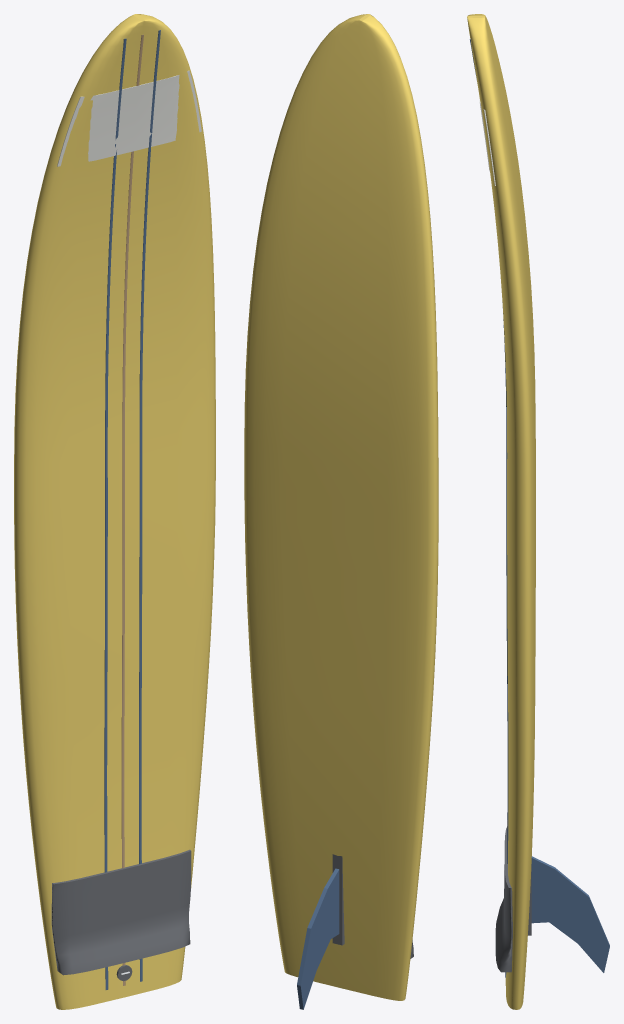
File: beach-surf-and-paddle-kit-longboard-surfboard-d5d87547__39414.glb
3 views of the same model, side by side, from view 1: azimuth 30°, elevation 25°; view 2: azimuth 150°, elevation 25°; view 3: azimuth 270°, elevation 25° (orthographic). The views are drawn at different scales.
Visible parts, largest first — view 1: longboard-surfboard-sun, longboard-surfboard-charcoal, longboard-surfboard-foam, longboard-surfboard-navy, longboard-surfboard-timber; view 2: longboard-surfboard-sun, longboard-surfboard-navy, longboard-surfboard-charcoal; view 3: longboard-surfboard-sun, longboard-surfboard-navy, longboard-surfboard-charcoal.
Boxes of the visible parts, x1,y1,x2,y2 form: longboard-surfboard-sun: [14, 14, 215, 1009]; longboard-surfboard-charcoal: [51, 849, 191, 981]; longboard-surfboard-foam: [57, 70, 201, 166]; longboard-surfboard-navy: [104, 30, 160, 989]; longboard-surfboard-timber: [121, 34, 143, 985]; longboard-surfboard-sun: [244, 14, 438, 1000]; longboard-surfboard-navy: [297, 868, 339, 1009]; longboard-surfboard-charcoal: [332, 854, 413, 958]; longboard-surfboard-sun: [467, 14, 535, 1009]; longboard-surfboard-navy: [469, 39, 609, 977]; longboard-surfboard-charcoal: [495, 826, 531, 972].
Bounding box in the file's own units: 0.5801 × 2.75 × 0.3696.
